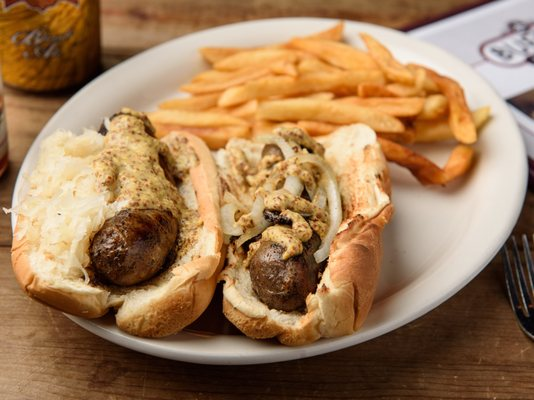pizza: (0, 0, 102, 95)
soup: (9, 105, 226, 338)
